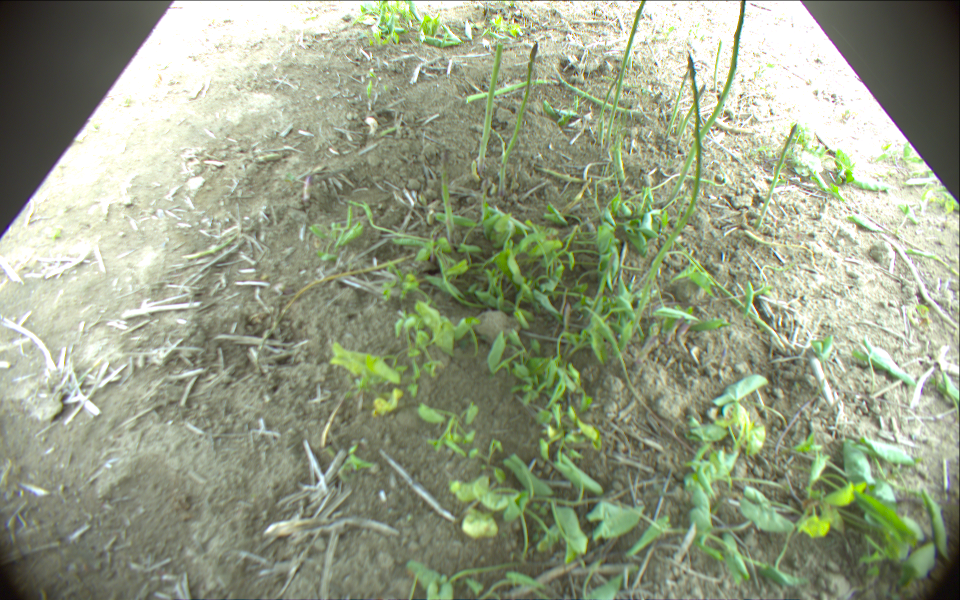aspa: (666, 1, 748, 207), (605, 1, 646, 155), (500, 41, 539, 165), (756, 124, 796, 229), (555, 70, 646, 114), (477, 43, 503, 174), (463, 79, 558, 105), (665, 56, 691, 135), (438, 146, 456, 245), (598, 71, 620, 143), (679, 84, 705, 138), (712, 36, 725, 92), (614, 134, 625, 184)
